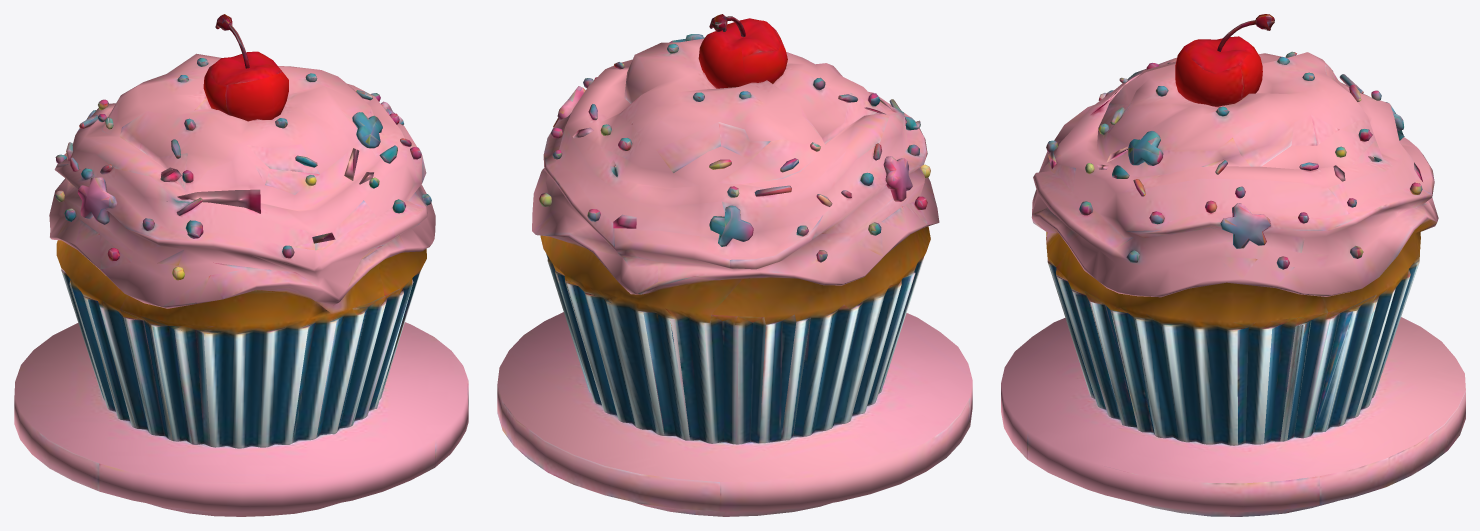
File: p_cupcake.glb
3 renders of one model, left to right at view 1: azimuth 30°, elevation 25°; view 2: azimuth 150°, elevation 25°; view 3: azimuth 270°, elevation 25°, orthographic. The views are drawn at different scales.
Size of the model in its own units: 0.9258 by 0.9512 by 0.9233.
Materials: 1 (1 with a texture image).
